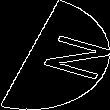N_W: (11, 27, 99, 83)
